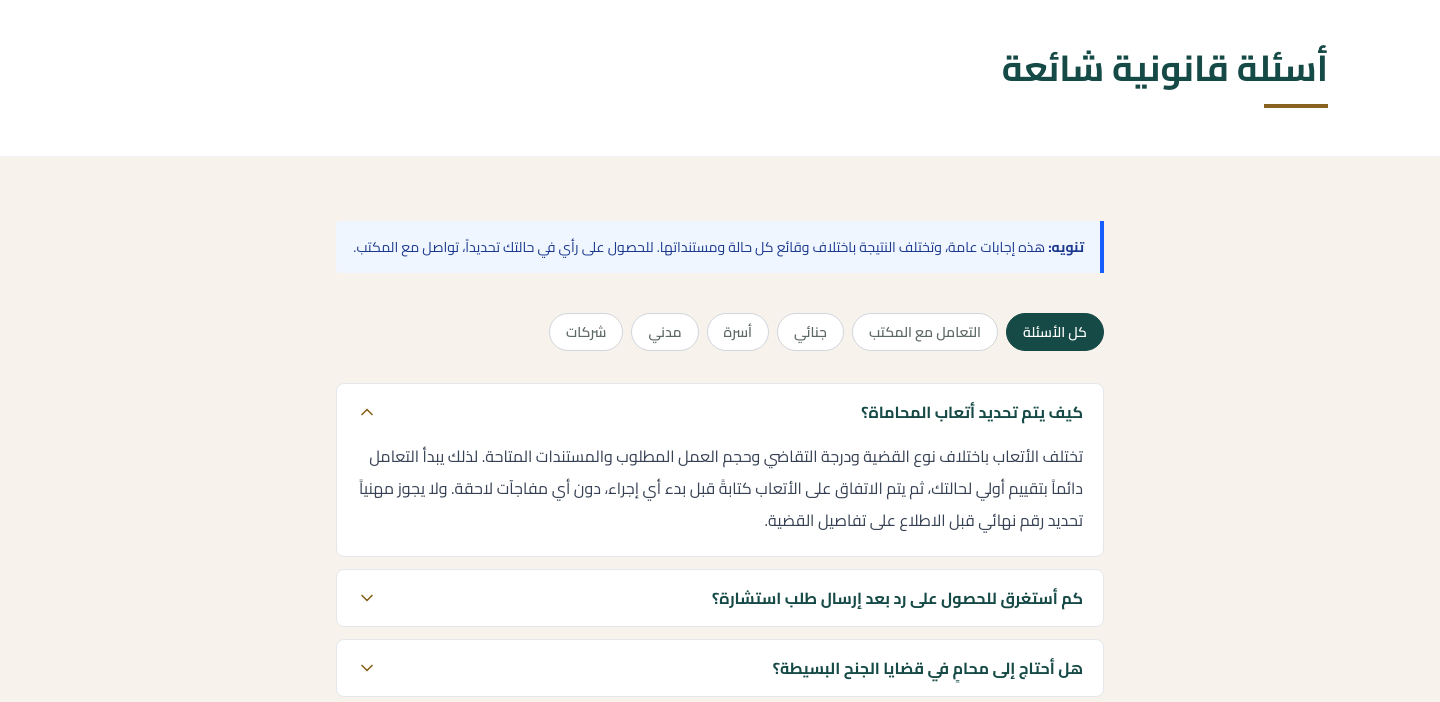
Test: FAQ page › filters questions by category
Click the button "التعامل مع المكتب" at {"x": 925, "y": 332}, box [852,313,998,351]
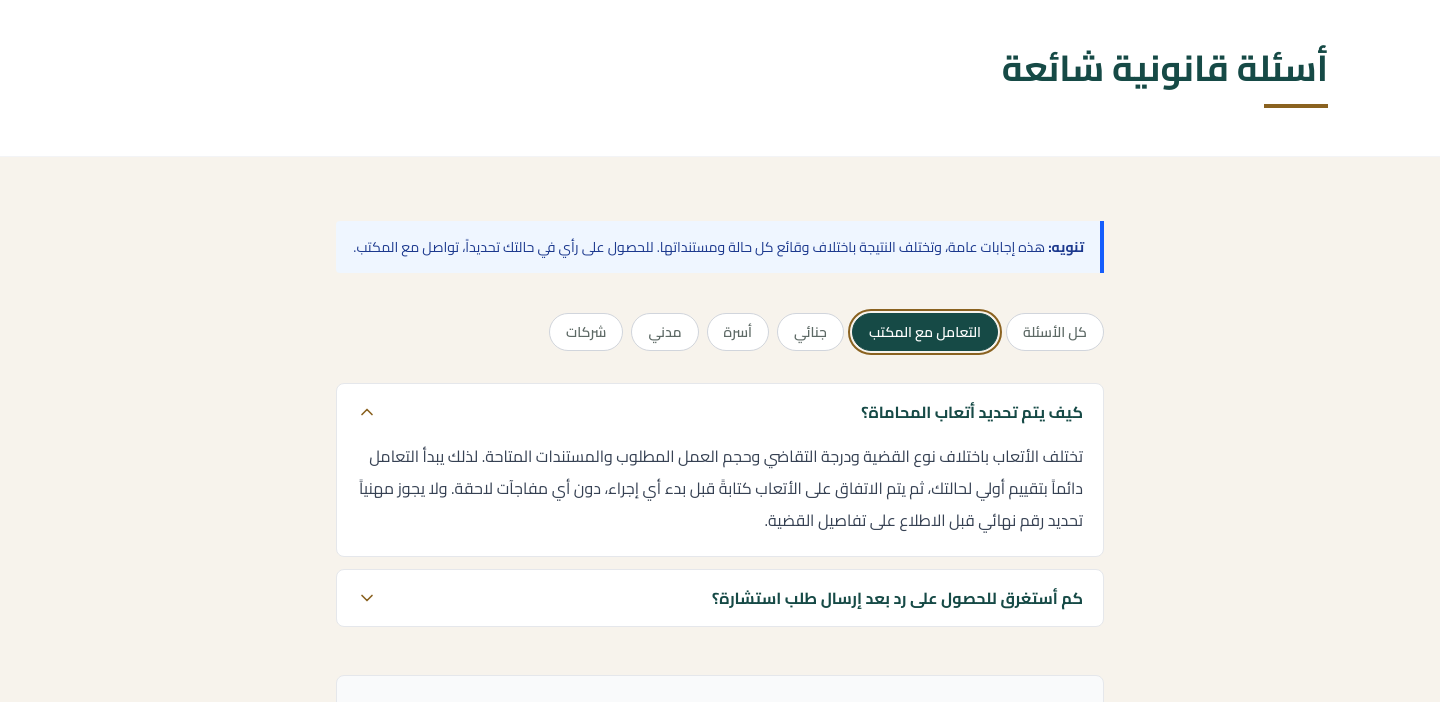
Check: the button "كيف يتم تحديد أتعاب المحاماة؟" is shown, box [337,384,1103,440]
Check: the button "هل أحتاج إلى محامٍ في قضايا الجنح البسيطة؟" is gone
